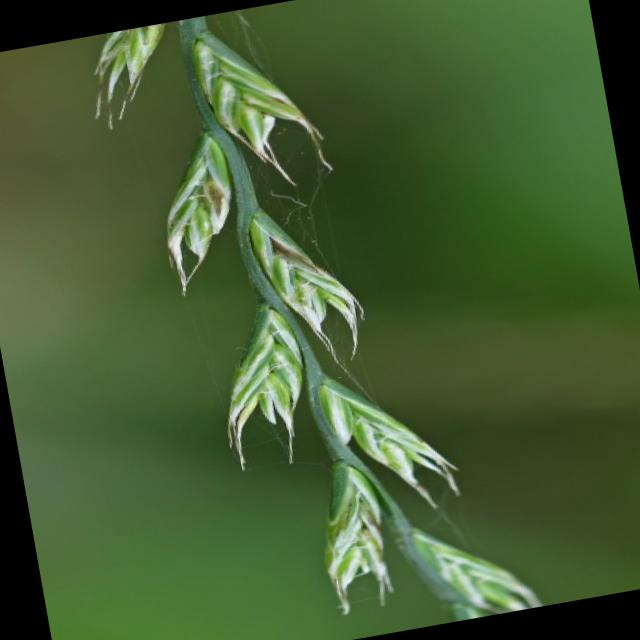Lolium: (75, 0, 545, 640)
